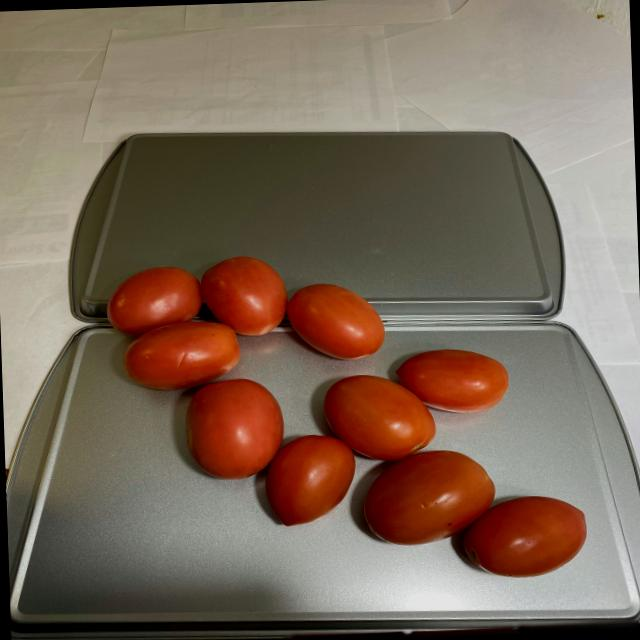tomato: (100, 239, 595, 591)
